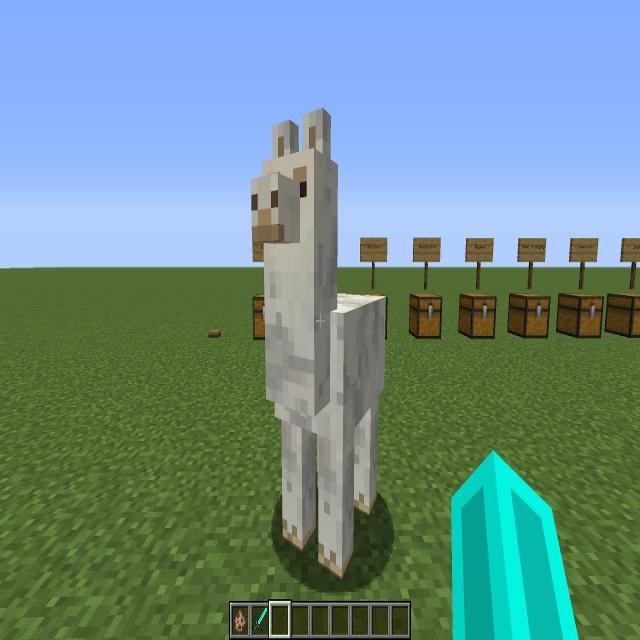Llama: (248, 100, 389, 584)
